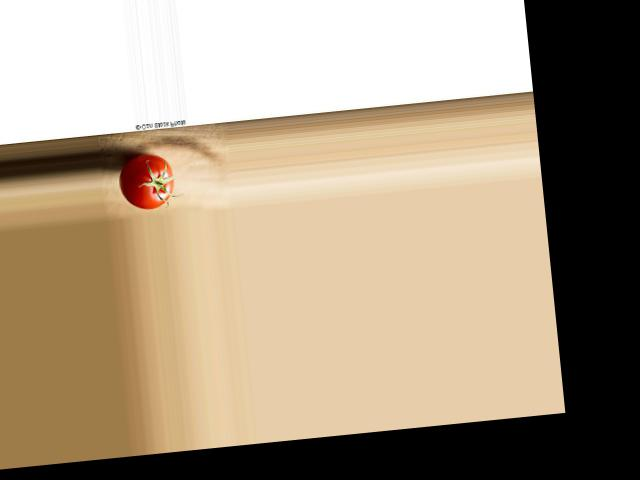tomato: (117, 151, 177, 210)
